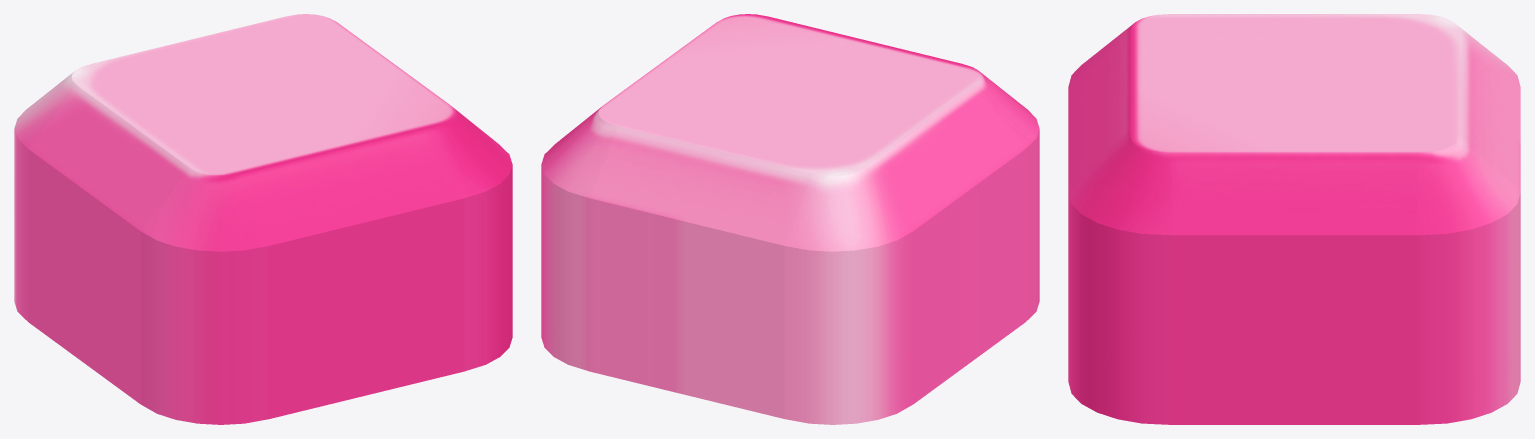
The model's file is Block_1x1_Pink.glb.
3 views of the same model, side by side, from view 1: azimuth 30°, elevation 25°; view 2: azimuth 150°, elevation 25°; view 3: azimuth 270°, elevation 25° (orthographic). The views are drawn at different scales.
Visible parts, largest first — view 1: Edge_Bottom, FrontFace, Edge_Left, Corner_BottomLeft, Corner_BottomRight, Corner_TopLeft; view 2: Edge_Top, FrontFace, Edge_Left, Corner_TopLeft, Corner_TopRight, Corner_BottomLeft; view 3: Edge_Right, FrontFace, Corner_TopRight, Corner_BottomRight, Edge_Top, Edge_Bottom, Corner_TopLeft, Corner_BottomLeft.
Part boxes in pixels (box(x1,y1,x2,y2)): Edge_Bottom: box(241, 126, 463, 418); FrontFace: box(71, 14, 455, 176); Edge_Left: box(28, 86, 189, 403); Corner_BottomLeft: box(140, 168, 269, 424); Corner_BottomRight: box(436, 106, 512, 371); Corner_TopLeft: box(14, 71, 77, 321); Edge_Top: box(590, 126, 812, 418); FrontFace: box(598, 14, 982, 176); Edge_Left: box(864, 86, 1025, 403); Corner_TopLeft: box(784, 168, 913, 424); Corner_TopRight: box(541, 106, 617, 371); Corner_BottomLeft: box(976, 71, 1039, 321); Edge_Right: box(1171, 153, 1417, 424); FrontFace: box(1130, 14, 1458, 152); Corner_TopRight: box(1417, 135, 1520, 424); Corner_BottomRight: box(1068, 135, 1171, 424); Edge_Top: box(1458, 32, 1520, 190); Edge_Bottom: box(1068, 32, 1130, 190); Corner_TopLeft: box(1453, 22, 1520, 86); Corner_BottomLeft: box(1068, 22, 1135, 86).
Size of the model in its own units: 1 by 0.5995 by 1.
Materials: 1 (1 with a texture image).
